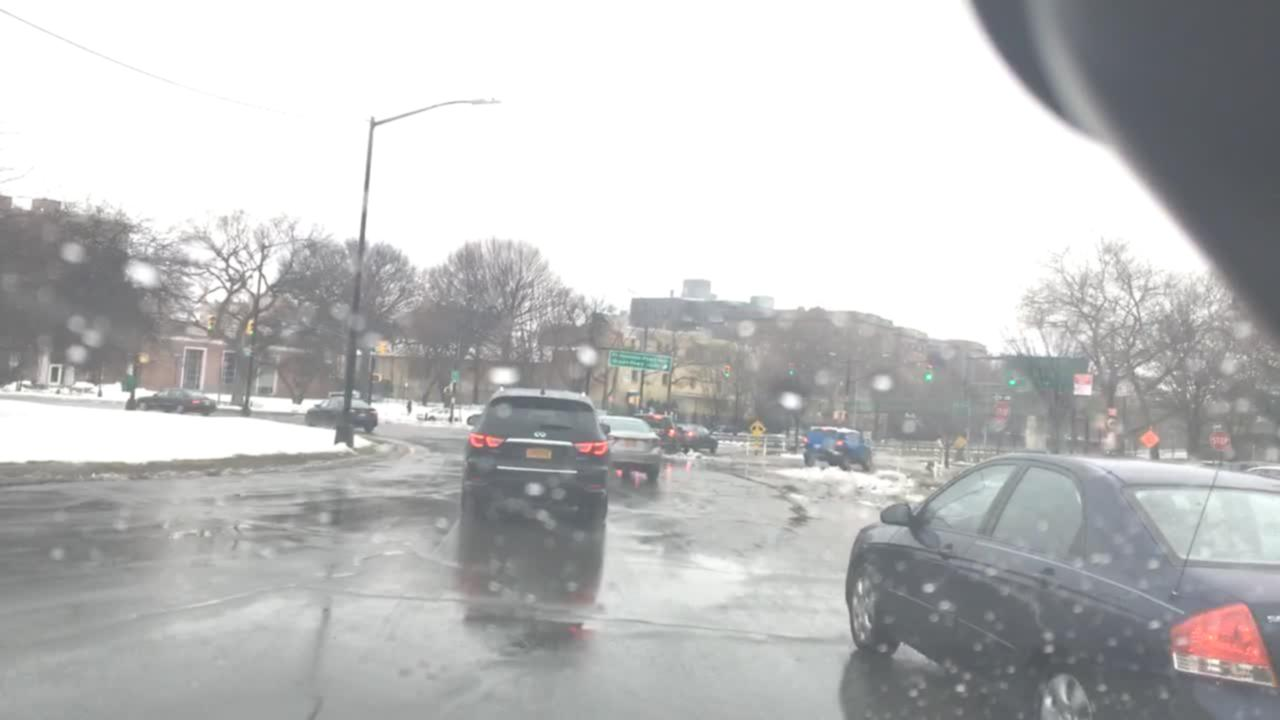Infiniti: (528, 425, 553, 446)
